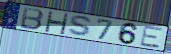6: (116, 22, 140, 45)
7: (95, 18, 116, 41)
B: (19, 6, 45, 31)
E: (139, 25, 164, 49)
H: (43, 10, 70, 35)
S: (67, 15, 94, 38)
